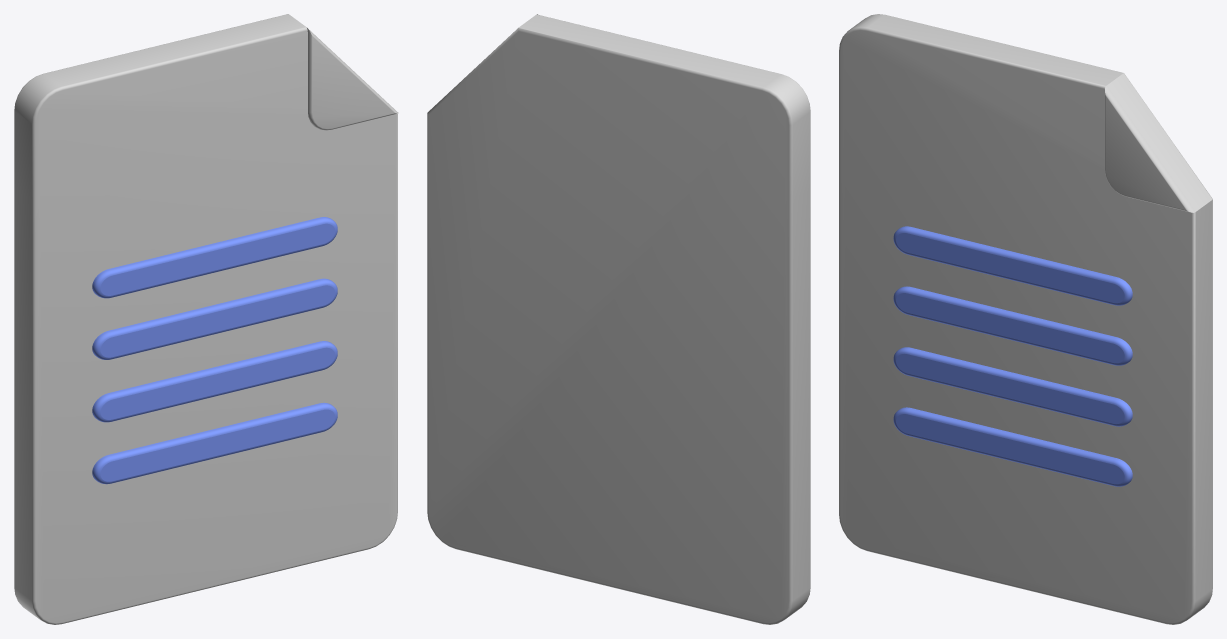
The picture shows the model from 3 angles, left to right: view 1: azimuth 30°, elevation 25°; view 2: azimuth 150°, elevation 25°; view 3: azimuth 330°, elevation 25°; orthographic projection. The views are drawn at different scales.
Parts seen in each view (by area): view 1: Beveal, lines; view 2: Beveal; view 3: Beveal, lines.
Part boxes in pixels (x1,y1,x2,y2): Beveal: (14,14,398,624); lines: (92,217,337,484); Beveal: (427,14,810,624); Beveal: (839,14,1212,624); lines: (893,226,1132,486).
Size of the model in its own units: 20.14 by 28.29 by 2.3.
